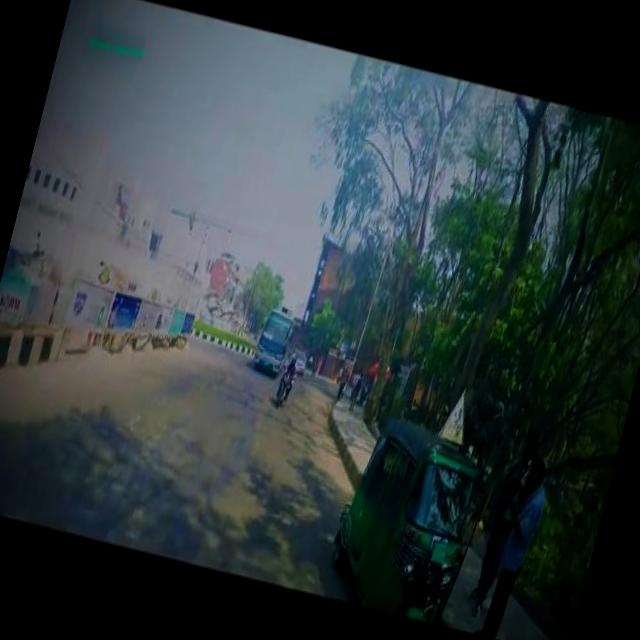bus: (250, 304, 296, 369)
car: (288, 342, 310, 372)
motorcycle: (320, 408, 497, 627), (272, 363, 295, 404)
